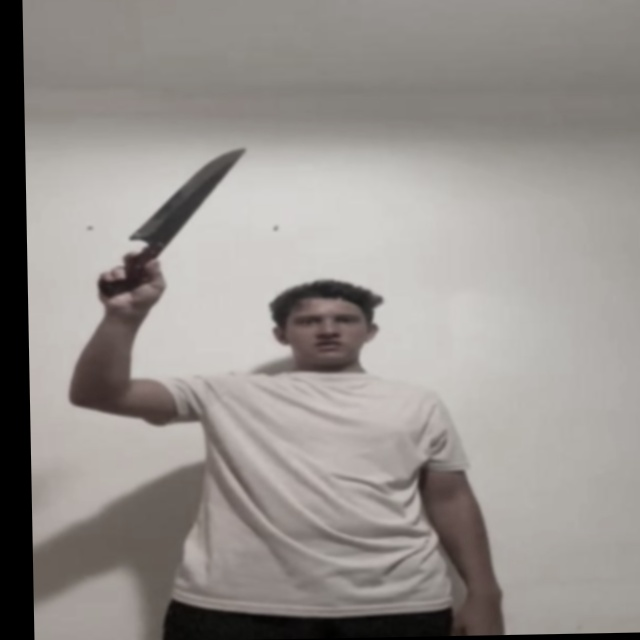Sharp-Object: (128, 148, 250, 248)
